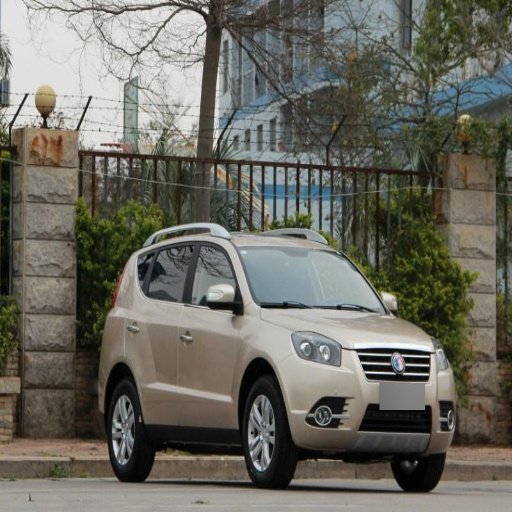front_bumper: (282, 349, 455, 453)
front_right_door: (180, 238, 240, 423)
front_right_light: (291, 332, 342, 365)
